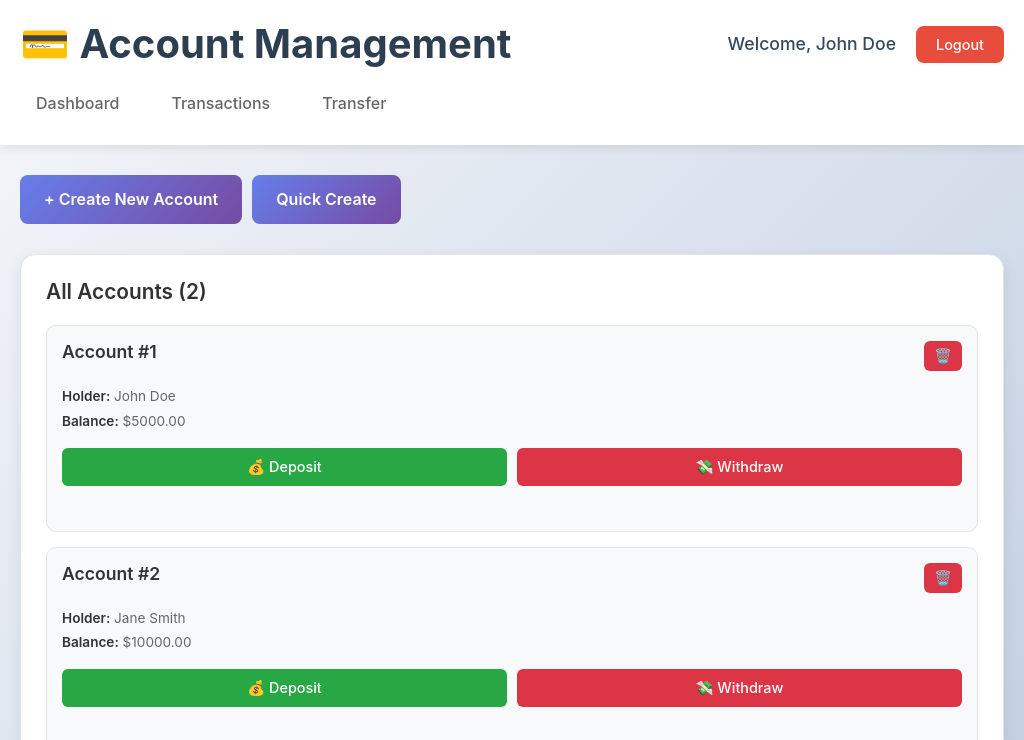
AccountDetails Component › handles deposit error
This screenshot has width=1024, height=740.
Click the button "💰 Deposit" below "5000.00" at coordinates (284, 467), box [62, 448, 507, 486]
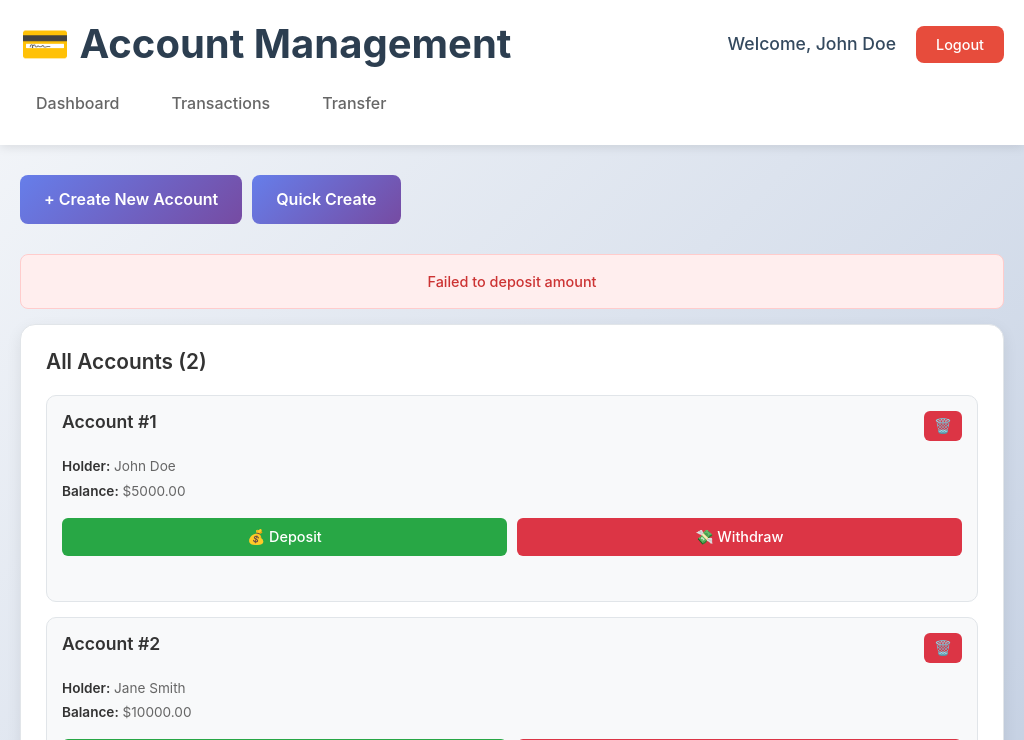
Check: the text "Failed to deposit amount" is shown, box [20, 254, 1004, 309]
